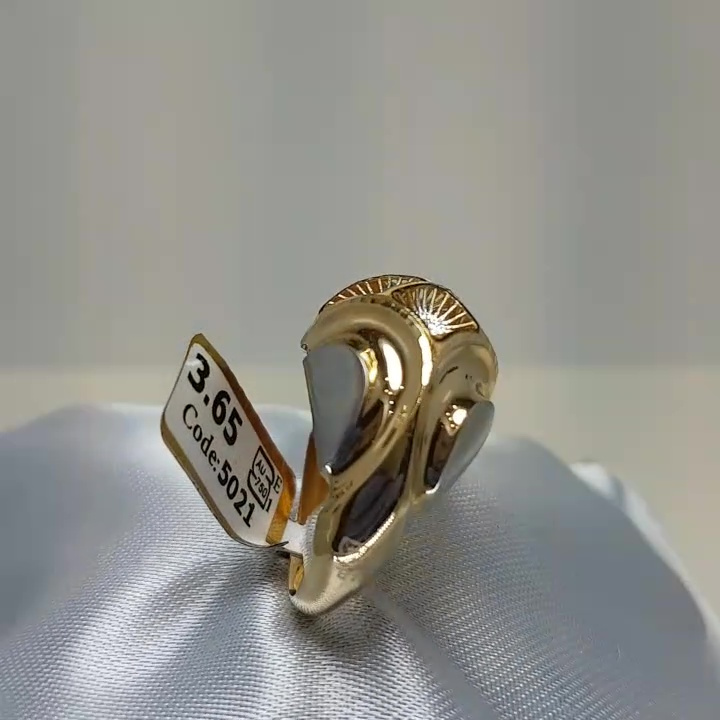Ring 2: (219, 252, 522, 637)
